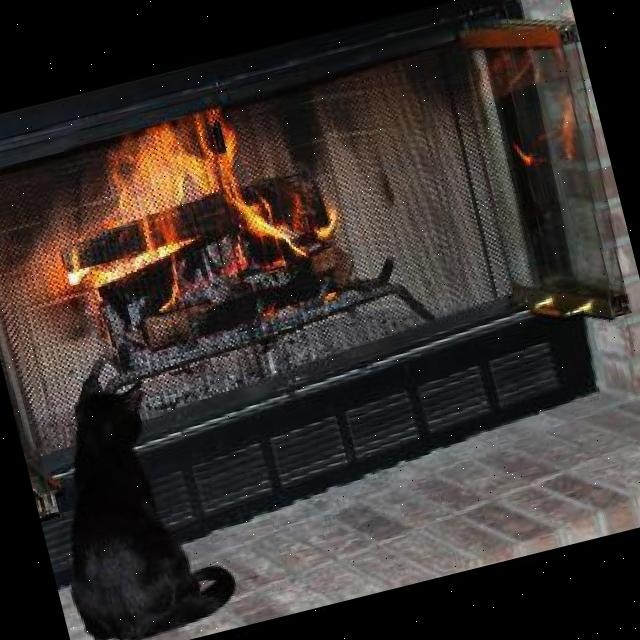fire: (41, 78, 359, 360)
